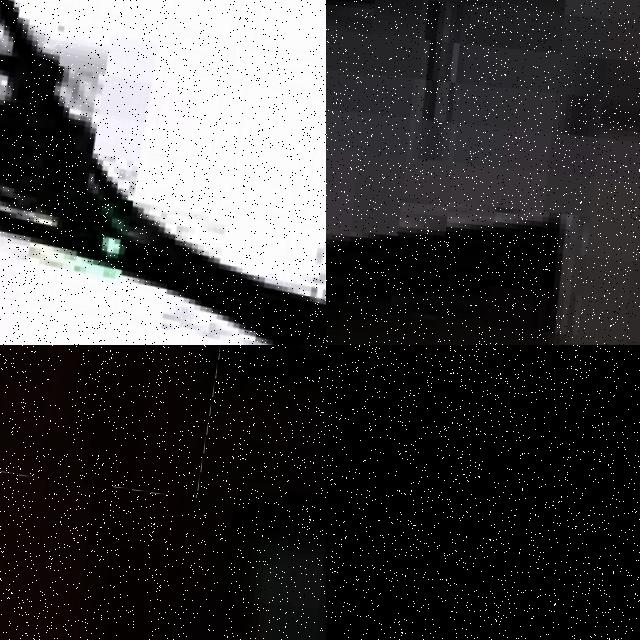drone: (0, 0, 326, 345), (0, 345, 254, 496)
